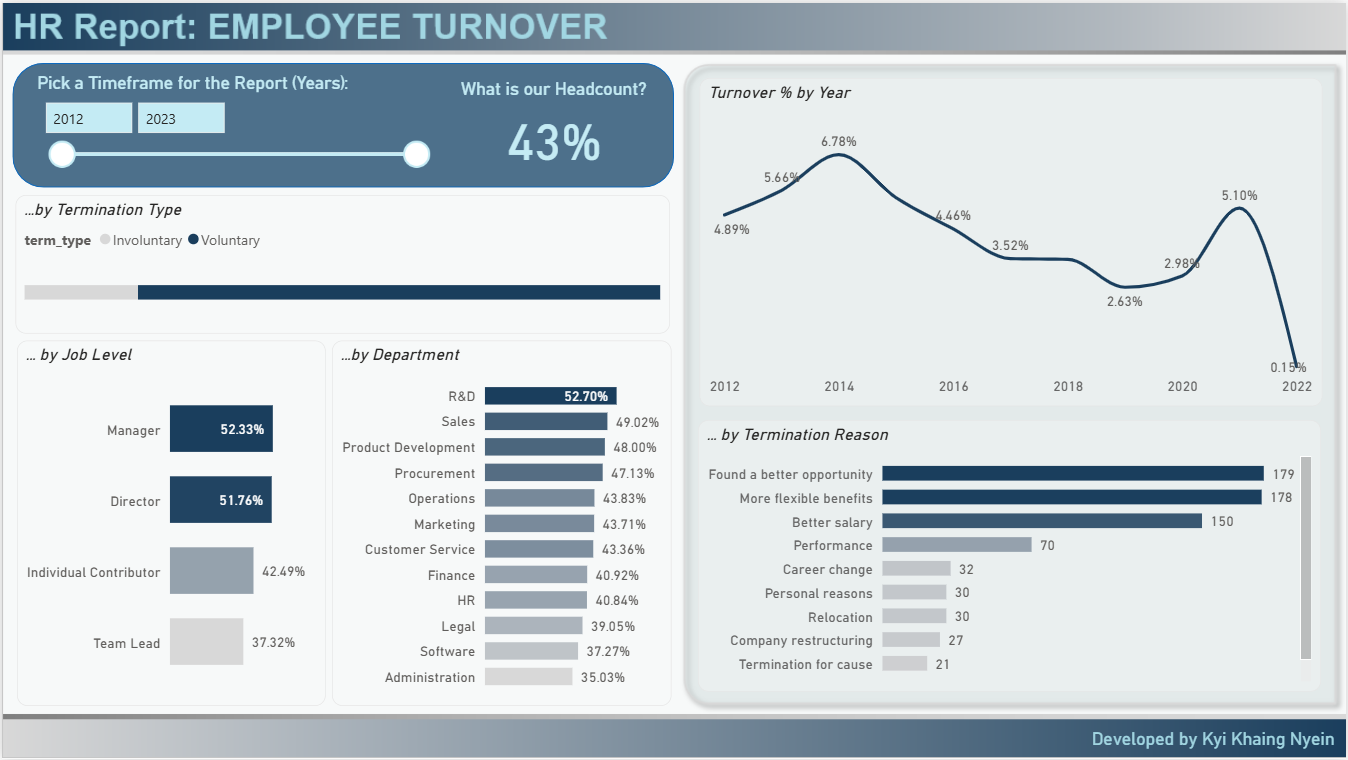

This screenshot's page, from the dashboard's own definition file:
{"tool":"powerbi","page":{"name":"Turnover","canvas":[1280,720],"ordinal":1},"visuals":[{"type":"textbox","box":[1032.9,685.7,245.7,30],"z":0},{"type":"shape","box":[10,57.1,630,118.6],"z":1000},{"type":"slicer","title":"Pick a Timeframe for the Report (Years):","fields":{"Values":["Dates_dim.Year"]},"box":[28.6,65.7,387.1,101.4],"z":2000},{"type":"card","title":"What is our Headcount?","fields":{"Values":["Measure Table.Turnover %"]},"box":[427.1,71.4,197.1,91.4],"z":3000},{"type":"hundredPercentStackedBarChart","title":"...by Termination Type","fields":{"Y":["Measure Table.Departing Employees"],"Series":["Term_dim.term_type"]},"box":[13.2,183.3,623.6,132.3],"z":4000},{"type":"clusteredBarChart","title":"...by Department","fields":{"Category":["Department_dim.department"],"Y":["Measure Table.Turnover %"]},"box":[313.7,321.3,323.2,347.7],"z":5000},{"type":"lineChart","fields":{"Y":["Measure Table.Turnover %"],"Category":["Dates_dim.Date.Variation.Date Hierarchy.Year"]},"box":[664,72.1,593,312.8],"z":6000},{"type":"clusteredBarChart","title":"... by Termination Reason","fields":{"Y":["Measure Table.Departing Employees"],"Category":["Term_dim.term_reason"]},"box":[663.2,396.7,593.6,258.9],"z":7000},{"type":"barChart","title":"... by Job Level","fields":{"Category":["Job Level_dim.job_level"],"Y":["Measure Table.Turnover %"]},"box":[13.6,321,293.8,348.3],"z":8000}]}

Visuals, with their boxes in screenshot pixels (x1, y1, x2, y2), scaled from the page's 1280x720 canvas onto the 1348x760 screenshot:
textbox: region(1088, 724, 1347, 755)
shape: region(11, 60, 674, 185)
"Pick a Timeframe for the Report (Years):" slicer: region(30, 69, 438, 176)
"What is our Headcount?" card: region(450, 75, 657, 172)
"...by Termination Type" hundredPercentStackedBarChart: region(14, 193, 671, 333)
"...by Department" clusteredBarChart: region(330, 339, 671, 706)
lineChart - Measure Table.Turnover % x Dates_dim.Date.Variation.Date Hierarchy.Year: region(699, 76, 1324, 406)
"... by Termination Reason" clusteredBarChart: region(698, 419, 1324, 692)
"... by Job Level" barChart: region(14, 339, 324, 706)
